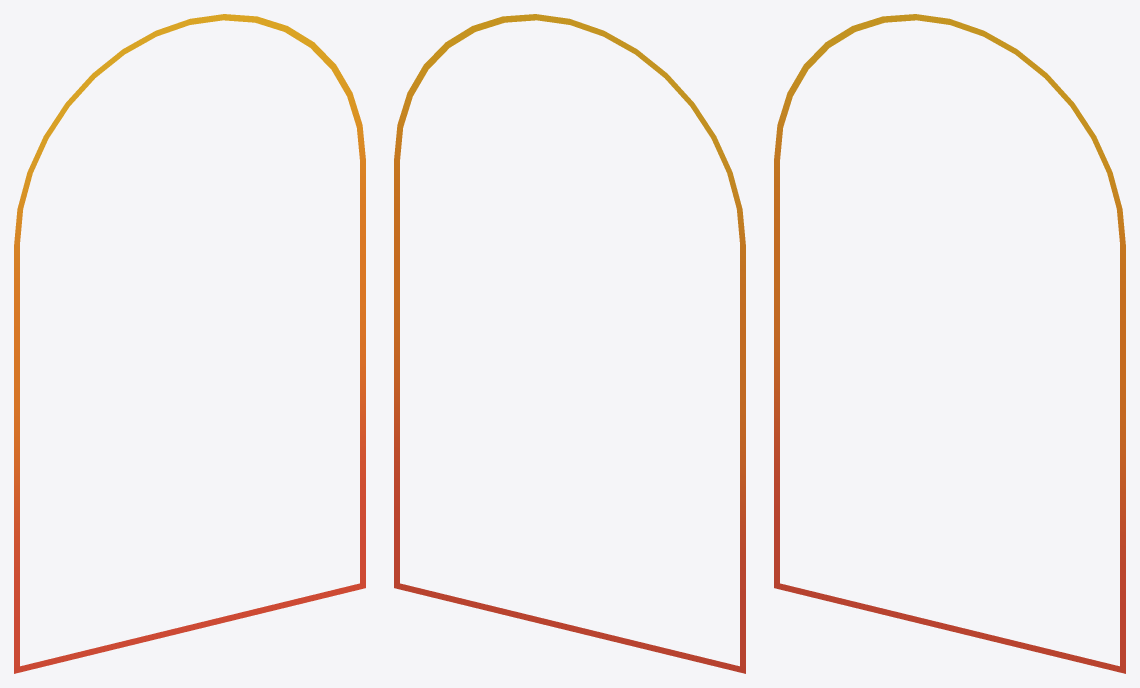
The model's file is portalLayer2.glb.
The picture shows the model from 3 angles, left to right: view 1: azimuth 30°, elevation 25°; view 2: azimuth 150°, elevation 25°; view 3: azimuth 330°, elevation 25°; orthographic projection.
Parts seen in each view (by area): view 1: Cube.002; view 2: Cube.002; view 3: Cube.002.
Part boxes in pixels (x1=…): Cube.002: x1=14, y1=14, x2=365, y2=673; Cube.002: x1=394, y1=14, x2=745, y2=673; Cube.002: x1=774, y1=14, x2=1125, y2=673.
Bounding box in the file's own units: 1.83 × 3.03 × 1.64e-07.
1 material, 1 textured.
